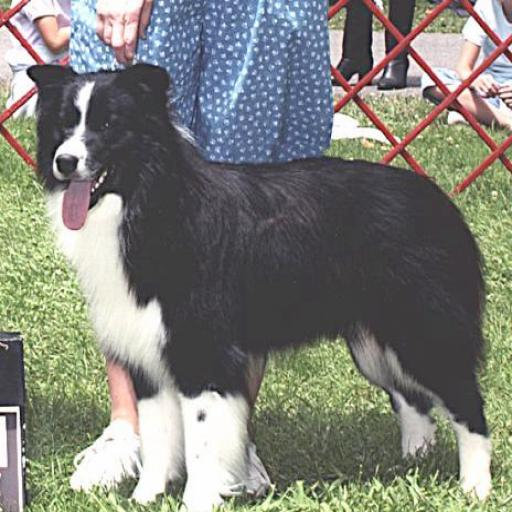dog_face: (20, 54, 178, 215)
